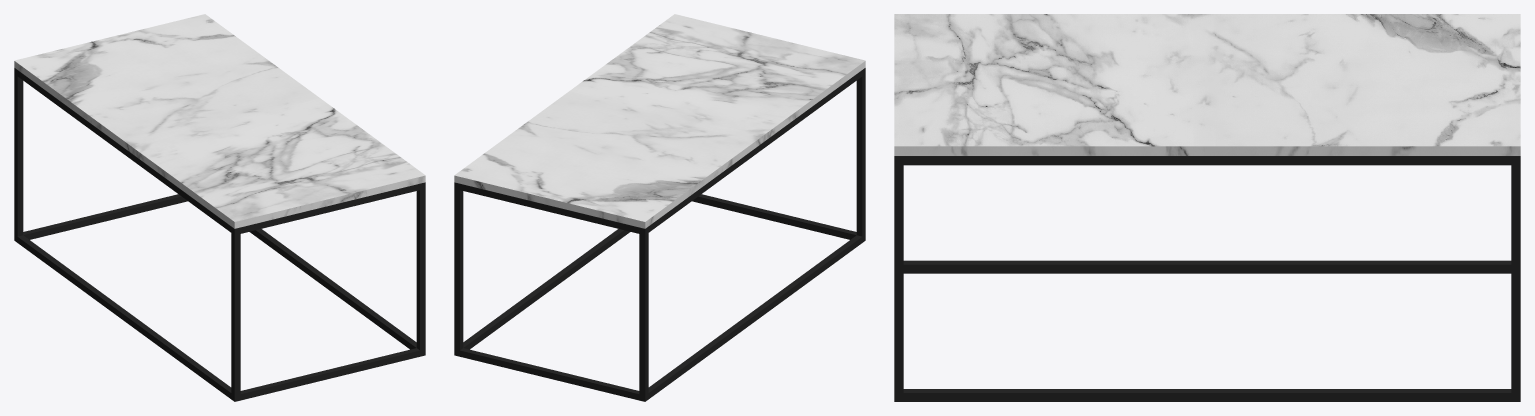
File: ban-tra-vuong.glb
3 renders of one model, left to right at view 1: azimuth 30°, elevation 25°; view 2: azimuth 150°, elevation 25°; view 3: azimuth 270°, elevation 25°, orthographic. The views are drawn at different scales.
Visible parts, largest first — view 1: MAIN, DOOR; view 2: MAIN, DOOR; view 3: MAIN, DOOR.
Boxes of the visible parts, <box> form: MAIN: <box>14,14,425,228</box>; DOOR: <box>14,68,425,401</box>; MAIN: <box>454,14,865,228</box>; DOOR: <box>454,68,865,401</box>; MAIN: <box>894,14,1520,155</box>; DOOR: <box>894,156,1520,401</box>.
Bounding box in the file's own units: 0.5 × 0.45 × 1.
2 materials, 1 textured.
